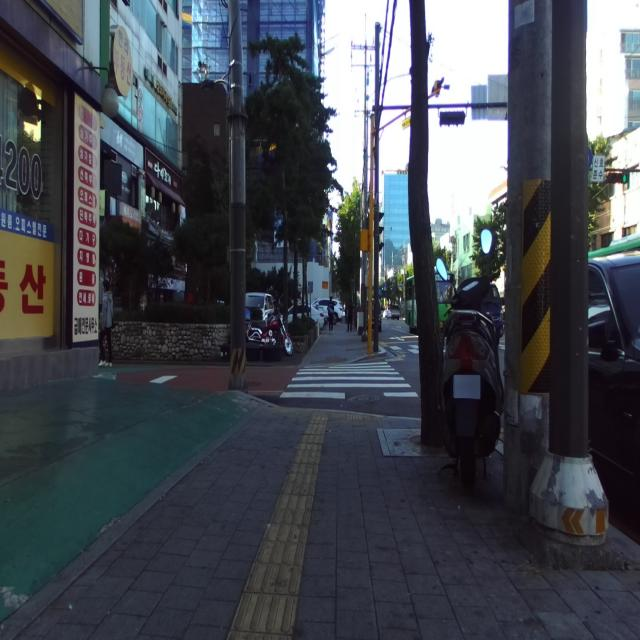횡단보도: (280, 362, 418, 399)
